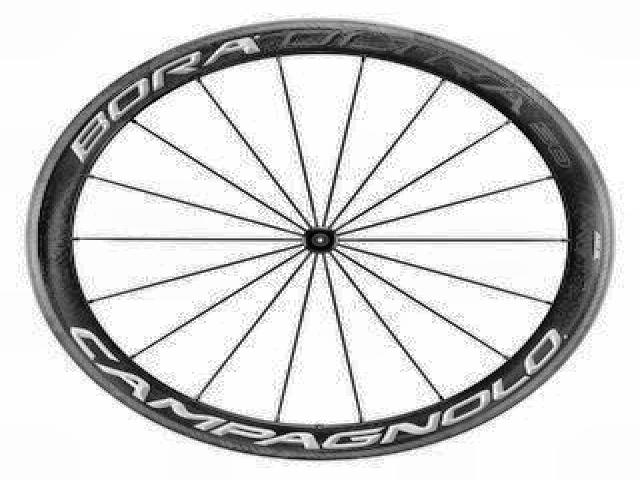wheel: (18, 15, 617, 462)
